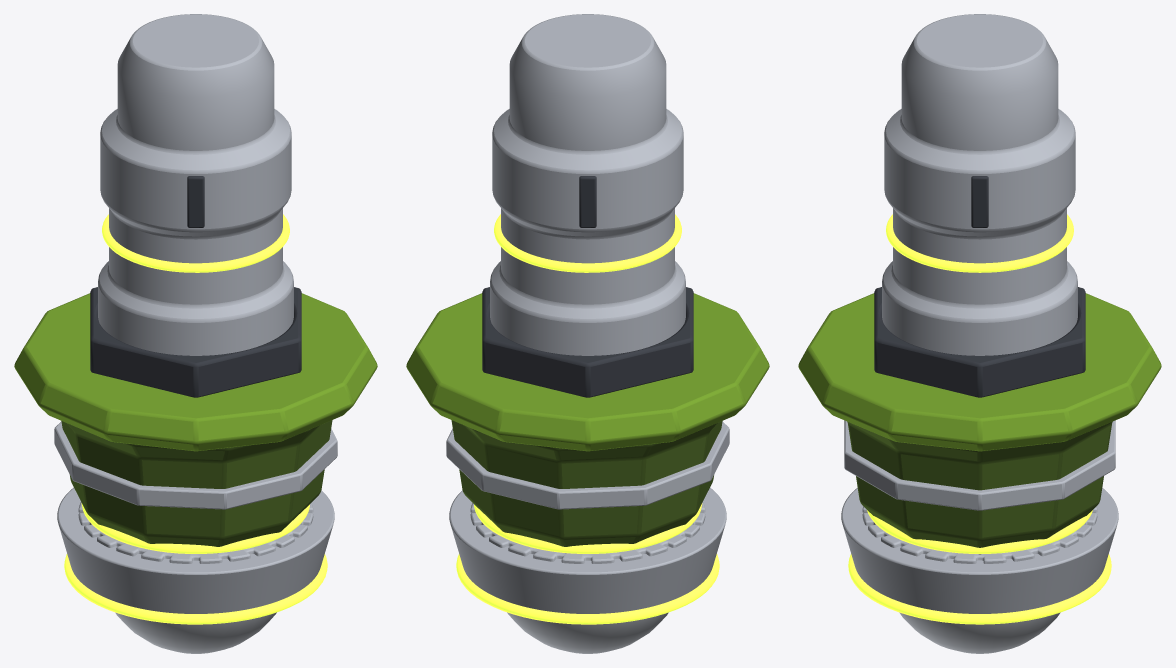
Rendered from kugel.glb.
3 views of the same model, side by side, from view 1: azimuth 30°, elevation 25°; view 2: azimuth 150°, elevation 25°; view 3: azimuth 270°, elevation 25° (orthographic).
Visible parts, largest first — view 1: Schaft.001, Flansch.001, Gehaeuse.001, Schale, Kragen.001, Metallband.001, Kontakt.001, Schalenleuchte, Fussring.001, Schaftleuchte.001, Fussleuchte.002, Rippe.013; view 2: Schaft.001, Flansch.001, Gehaeuse.001, Schale, Kragen.001, Metallband.001, Kontakt.001, Schalenleuchte, Fussring.001, Schaftleuchte.001, Fussleuchte.002, Rippe.012; view 3: Schaft.001, Flansch.001, Gehaeuse.001, Schale, Kragen.001, Metallband.001, Kontakt.001, Schalenleuchte, Fussring.001, Schaftleuchte.001, Fussleuchte.002, Rippe.011.
Boxes of the visible parts, <box> form: Schaft.001: <box>98,14,293,355</box>; Flansch.001: <box>14,293,377,451</box>; Gehaeuse.001: <box>61,420,332,546</box>; Schale: <box>57,487,334,613</box>; Kragen.001: <box>90,287,301,397</box>; Metallband.001: <box>54,421,337,509</box>; Kontakt.001: <box>115,612,276,653</box>; Schalenleuchte: <box>64,554,327,624</box>; Fussring.001: <box>78,502,313,563</box>; Schaftleuchte.001: <box>102,214,289,272</box>; Fussleuchte.002: <box>81,503,309,553</box>; Rippe.013: <box>187,176,204,227</box>; Schaft.001: <box>490,14,685,355</box>; Flansch.001: <box>406,293,769,451</box>; Gehaeuse.001: <box>451,420,722,546</box>; Schale: <box>449,487,726,613</box>; Kragen.001: <box>482,287,693,397</box>; Metallband.001: <box>446,421,729,509</box>; Kontakt.001: <box>507,612,668,653</box>; Schalenleuchte: <box>456,554,719,624</box>; Fussring.001: <box>470,502,705,563</box>; Schaftleuchte.001: <box>494,214,681,272</box>; Fussleuchte.002: <box>474,503,702,553</box>; Rippe.012: <box>579,176,596,227</box>; Schaft.001: <box>882,14,1077,355</box>; Flansch.001: <box>798,293,1161,451</box>; Gehaeuse.001: <box>847,421,1112,554</box>; Schale: <box>841,488,1118,613</box>; Kragen.001: <box>874,287,1085,397</box>; Metallband.001: <box>844,420,1115,510</box>; Kontakt.001: <box>899,612,1060,653</box>; Schalenleuchte: <box>848,554,1111,624</box>; Fussring.001: <box>862,506,1097,563</box>; Schaftleuchte.001: <box>886,214,1073,272</box>; Fussleuchte.002: <box>867,510,1092,553</box>; Rippe.011: <box>971,176,988,227</box>.
Bounding box in the file's own units: 0.1668 × 0.306 × 0.1668.
